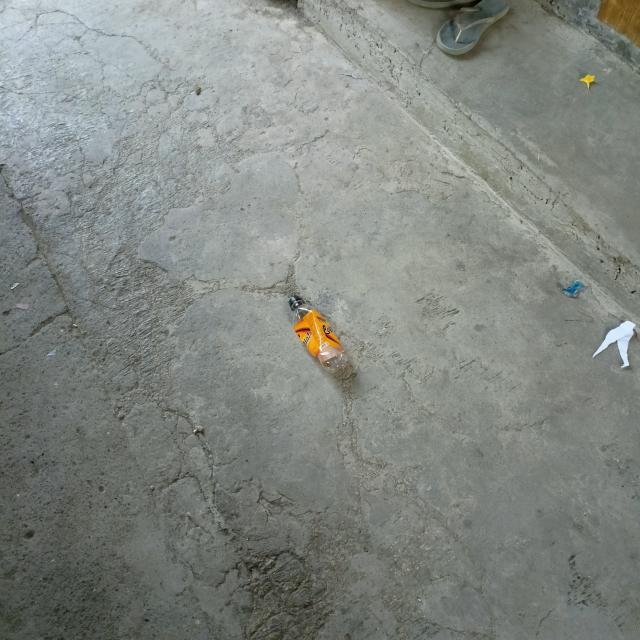Bottle: (289, 295, 348, 373)
